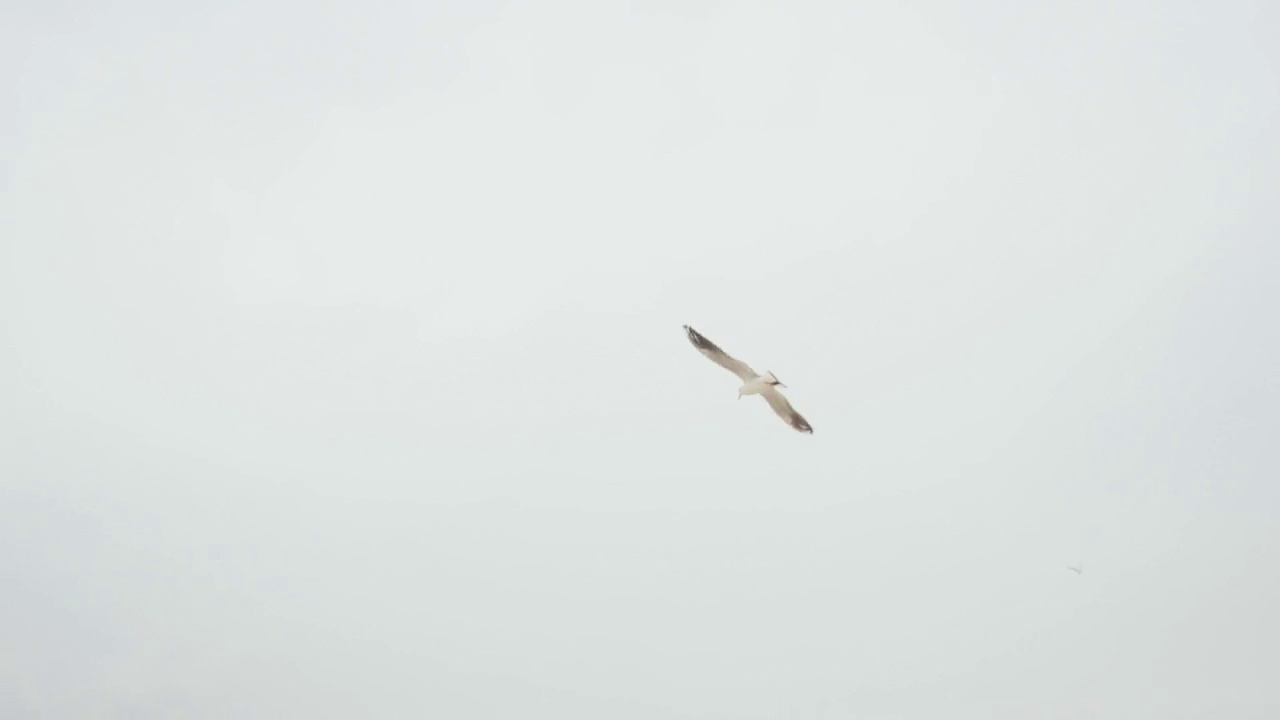bird: (684, 321, 812, 434)
